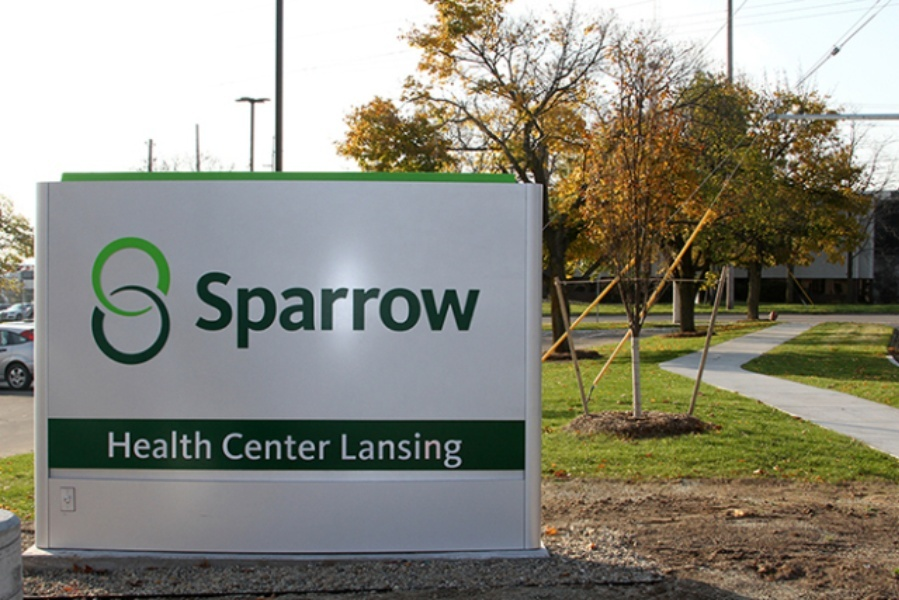text: (209, 269, 224, 350), (225, 269, 240, 350), (241, 269, 256, 350), (257, 269, 272, 350), (273, 269, 288, 350), (289, 269, 304, 350), (305, 269, 320, 350), (321, 269, 336, 350), (337, 269, 352, 350), (353, 269, 368, 350), (369, 269, 384, 350), (385, 269, 400, 350), (401, 269, 416, 350), (417, 269, 432, 350), (433, 269, 448, 350), (449, 269, 464, 350), (465, 269, 480, 350), (196, 269, 208, 350), (353, 429, 368, 471), (369, 429, 384, 471), (385, 429, 400, 471), (401, 429, 416, 471), (417, 429, 432, 471), (433, 429, 448, 471), (449, 429, 464, 471), (338, 429, 352, 471), (481, 269, 488, 350), (113, 428, 128, 461), (129, 428, 144, 461), (145, 428, 160, 461), (161, 428, 176, 461), (177, 428, 192, 461), (193, 428, 208, 461), (225, 430, 240, 463), (241, 430, 256, 463), (257, 430, 272, 463), (273, 430, 288, 463), (289, 430, 304, 463), (305, 430, 320, 463), (321, 430, 333, 463), (106, 428, 112, 461), (209, 428, 214, 461), (220, 430, 224, 463)
